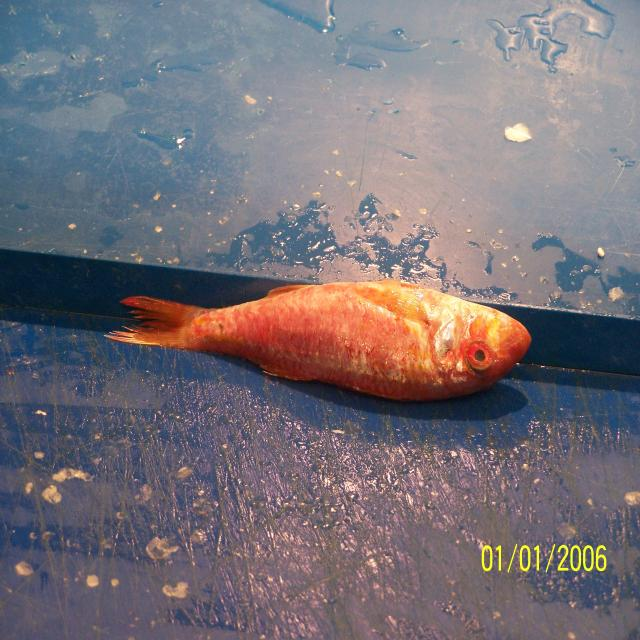Red-Mullet-kefal-: (110, 281, 535, 411)
